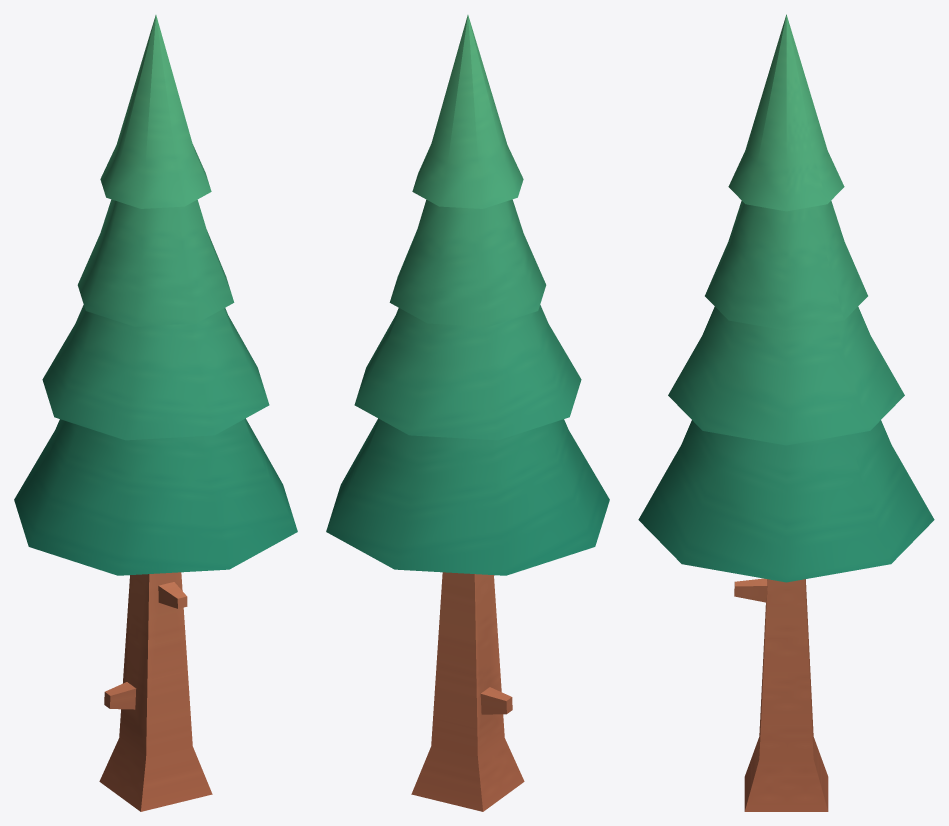
File: treeHigh.fbx
The picture shows the model from 3 angles, left to right: view 1: azimuth 30°, elevation 25°; view 2: azimuth 150°, elevation 25°; view 3: azimuth 270°, elevation 25°; orthographic projection.
Visible parts, largest first — view 1: treeHigh; view 2: treeHigh; view 3: treeHigh.
Boxes of the visible parts, x1,y1,x2,y2 form: treeHigh: (14, 15, 297, 811); treeHigh: (326, 15, 609, 811); treeHigh: (638, 14, 934, 811).
Bounding box in the file's own units: 1.02 × 1.02 × 2.97.
